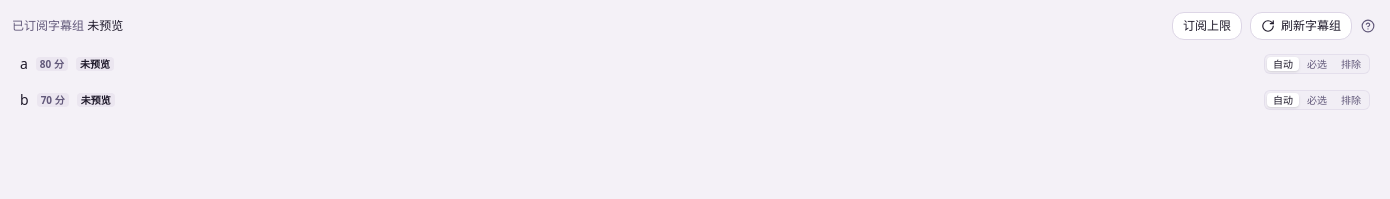
草稿字幕组冷却状态位于选择区域上方，而非按钮行内
Click the button "刷新字幕组".
click(1301, 26)  # box [1250,12,1352,40]
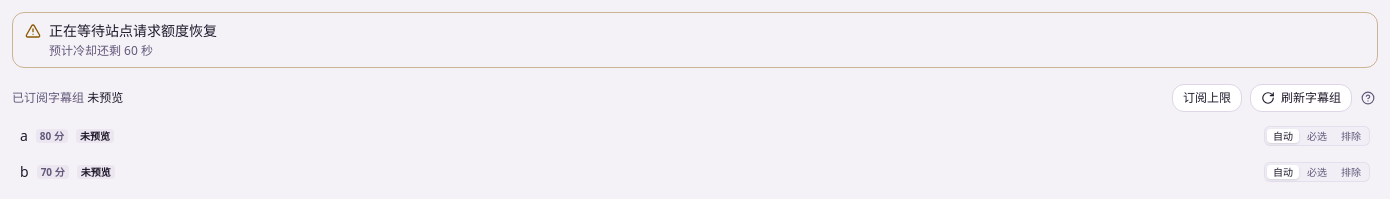
Check: the button "刷新字幕组" is enabled, box [1250,84,1352,112]
Check: the text "正在等待站点请求额度恢复" is shown, box [49,21,217,40]
